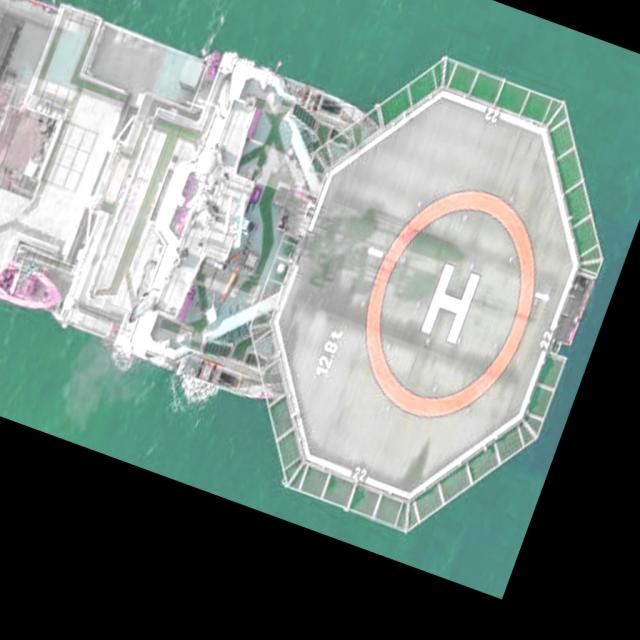helipad: (358, 182, 541, 422)
